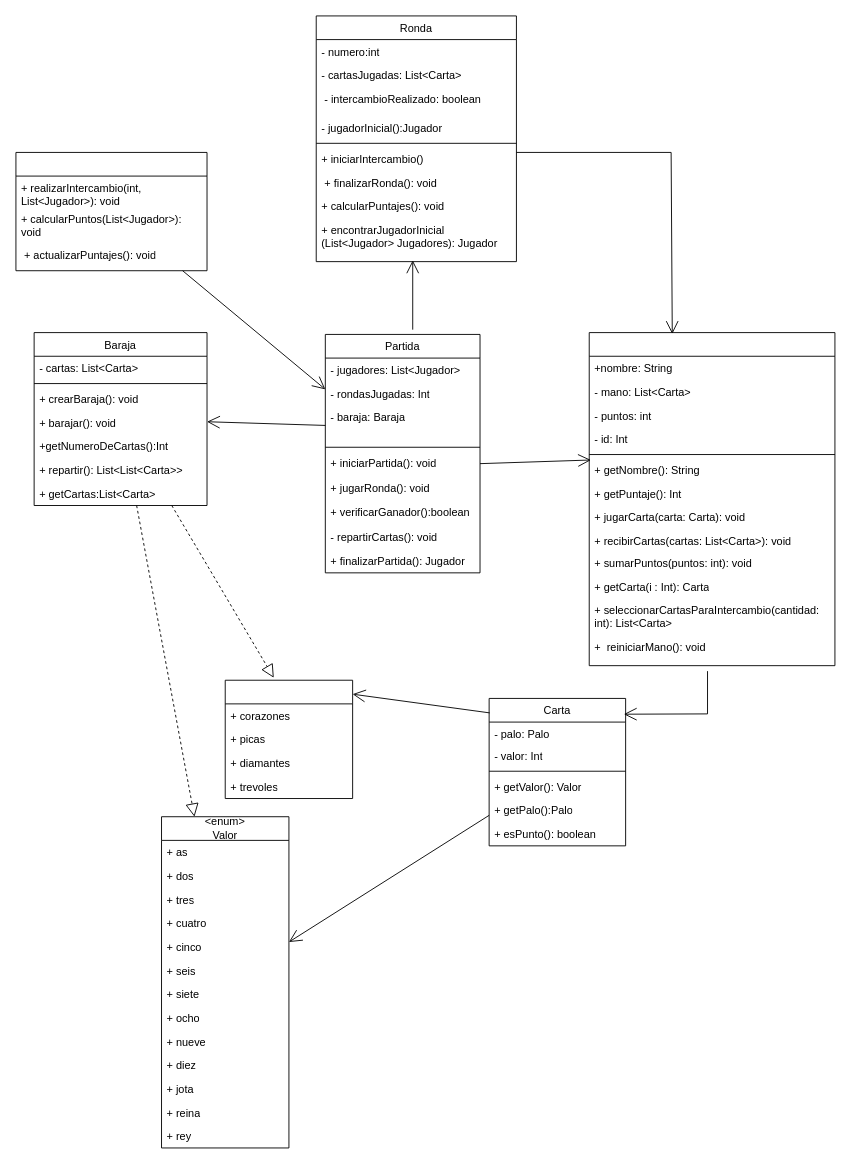
Some shapes in this 851 by 1167 pixel diagram are drawn without their labels. Here are the shapes that lost their labels. From the top down, the box of each, then its label:
(15, 152, 207, 271): Reglas
(588, 332, 835, 666): Jugador
(224, 679, 353, 799): <enum> Palo
